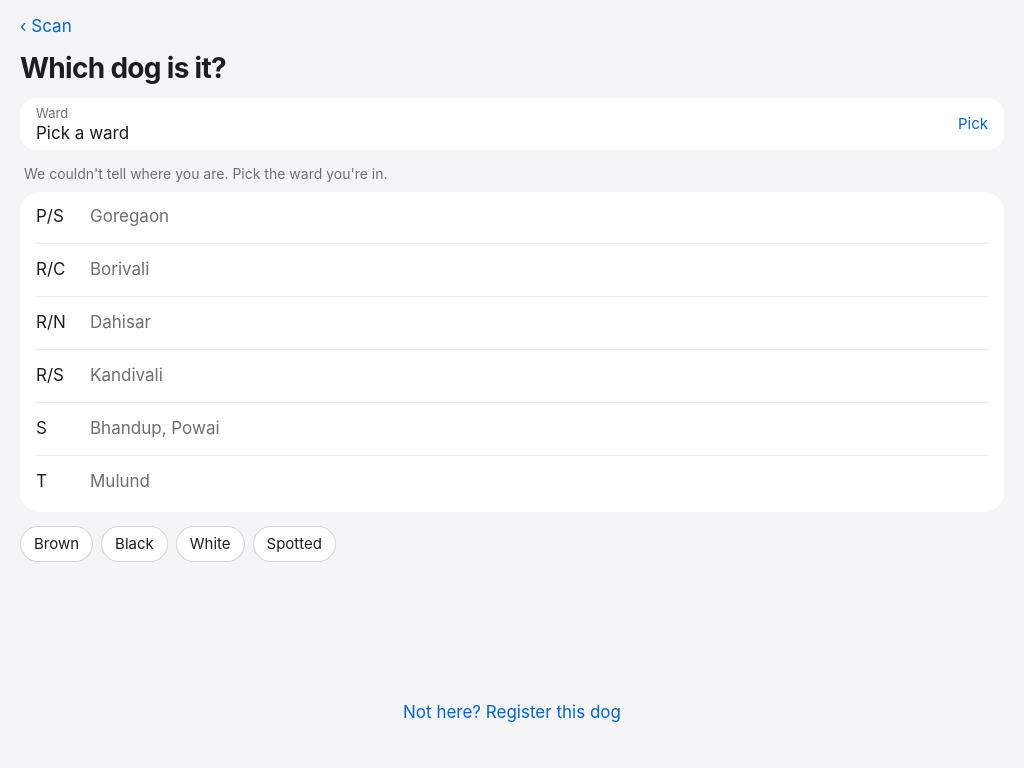
Scenario: F3 Which dog is it? › asks for a ward when it cannot tell, and Change reopens the list
The width and height of the screenshot is (1024, 768).
(page scrolled)
Expected: the text "We couldn't tell where you are. Pick the ward you're in." is shown, [24,165,388,182]
Click the button "T Mulund".
click(120, 481)  # box [36,456,988,508]
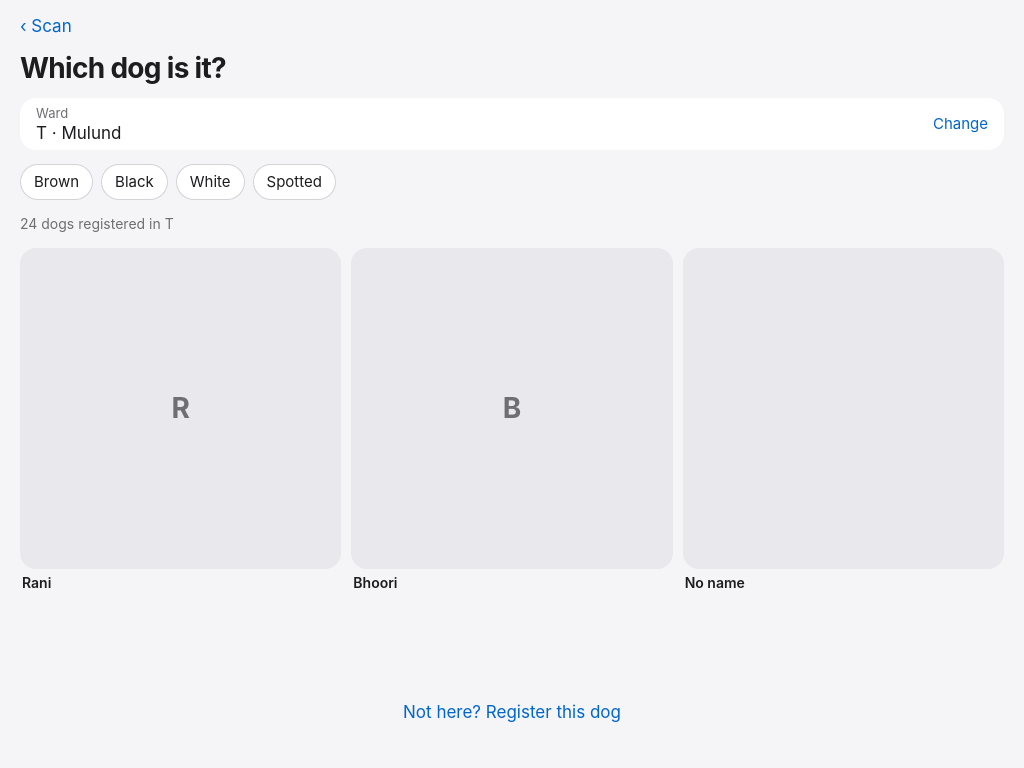
Click the button "Change".
click(960, 124)  # box [925,102,996,146]
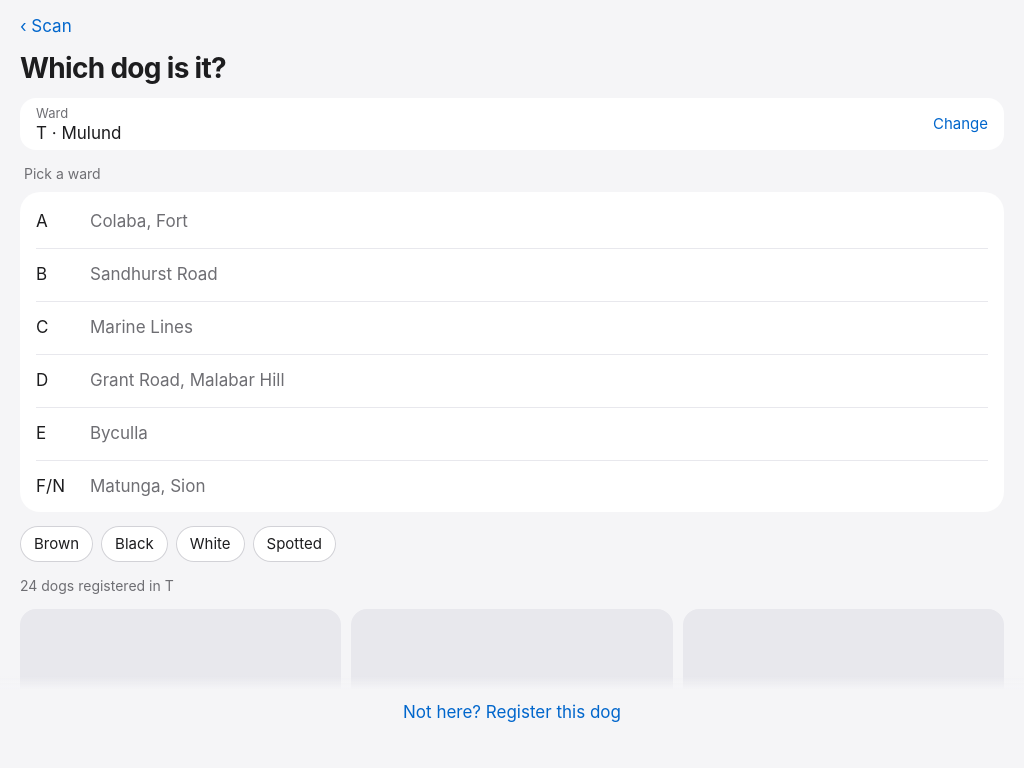
Result: the text "Pick a ward" is shown at [24,165,101,182]
